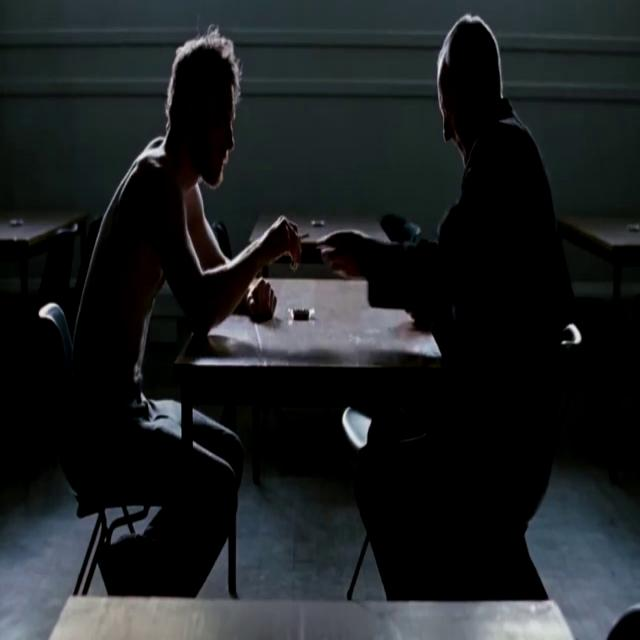Smooking: (298, 220, 312, 245)
